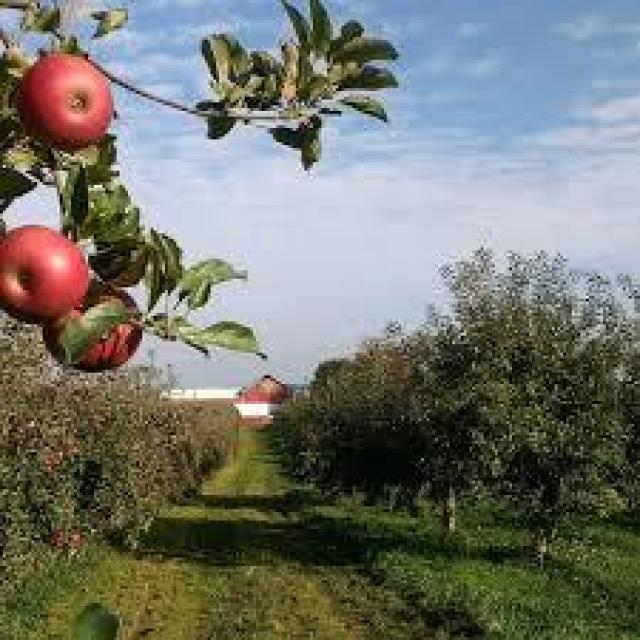fruit: (35, 281, 151, 380), (0, 220, 91, 326)
